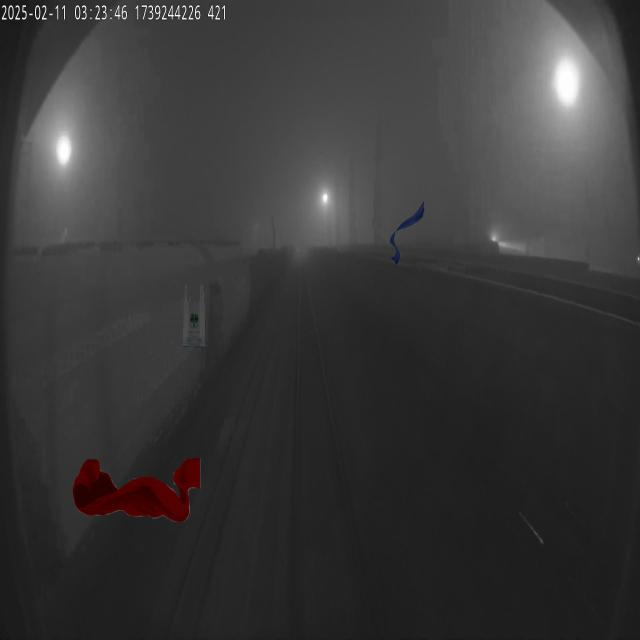floating object: (72, 458, 201, 522), (390, 201, 424, 265)
plastic bag: (182, 284, 205, 348)
